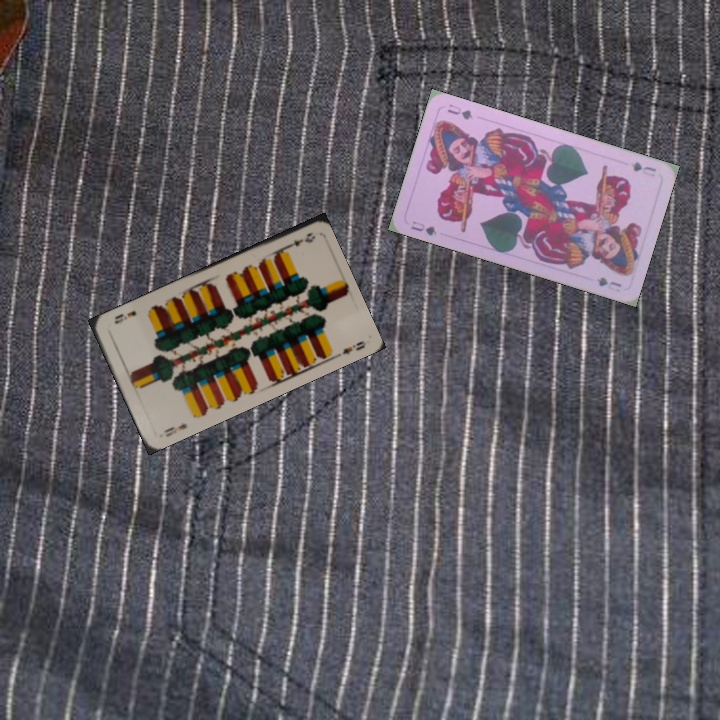E9: (278, 228, 318, 253), (160, 418, 190, 439)
GU: (627, 157, 658, 180), (407, 217, 439, 238)
